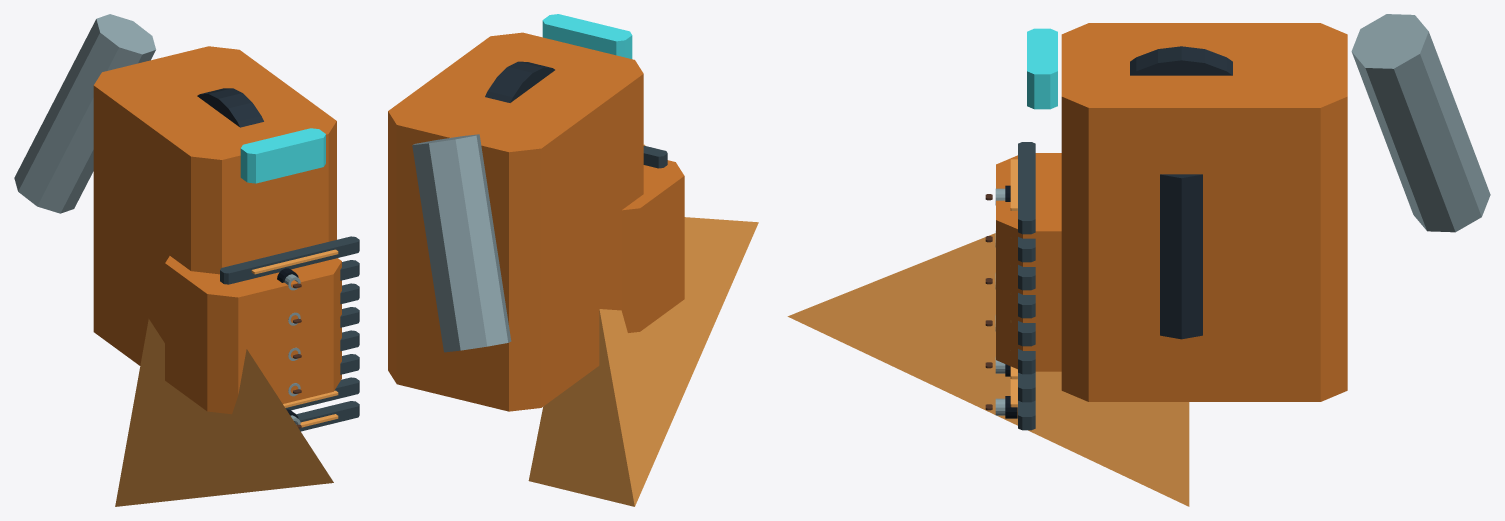
Rendered from enemy_runner_4k_forearm_l.obj.
3 views of the same model, side by side, from view 1: azimuth 30°, elevation 25°; view 2: azimuth 150°, elevation 25°; view 3: azimuth 270°, elevation 25° (orthographic). The views are drawn at different scales.
Size of the model in its own units: 0.3316 by 0.6816 by 0.91.
